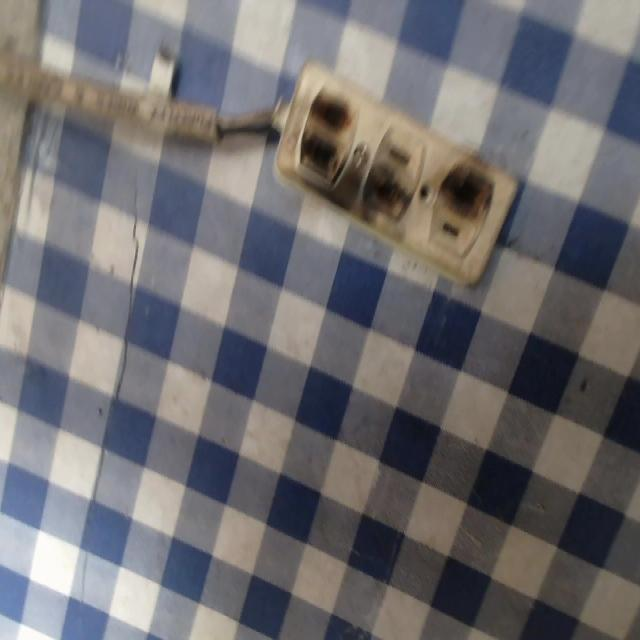-: (295, 84, 364, 188), (433, 139, 495, 225), (360, 165, 417, 223)
